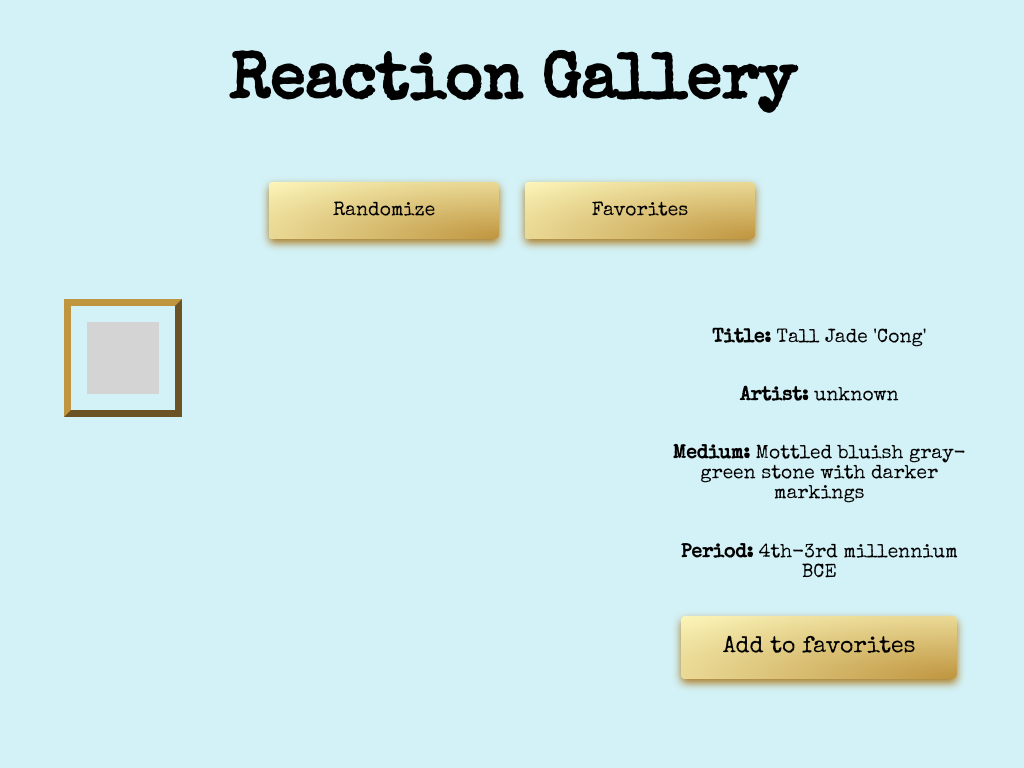
Test: Reaction Gallery error-handling › Should see an error message if visiting favorite page before adding favorites
This screenshot has width=1024, height=768.
What coordinates should you click on to do the following:
click the button with class "fav-btn"
I would click on:
 (640, 211)
Its box is [525,182,755,240].
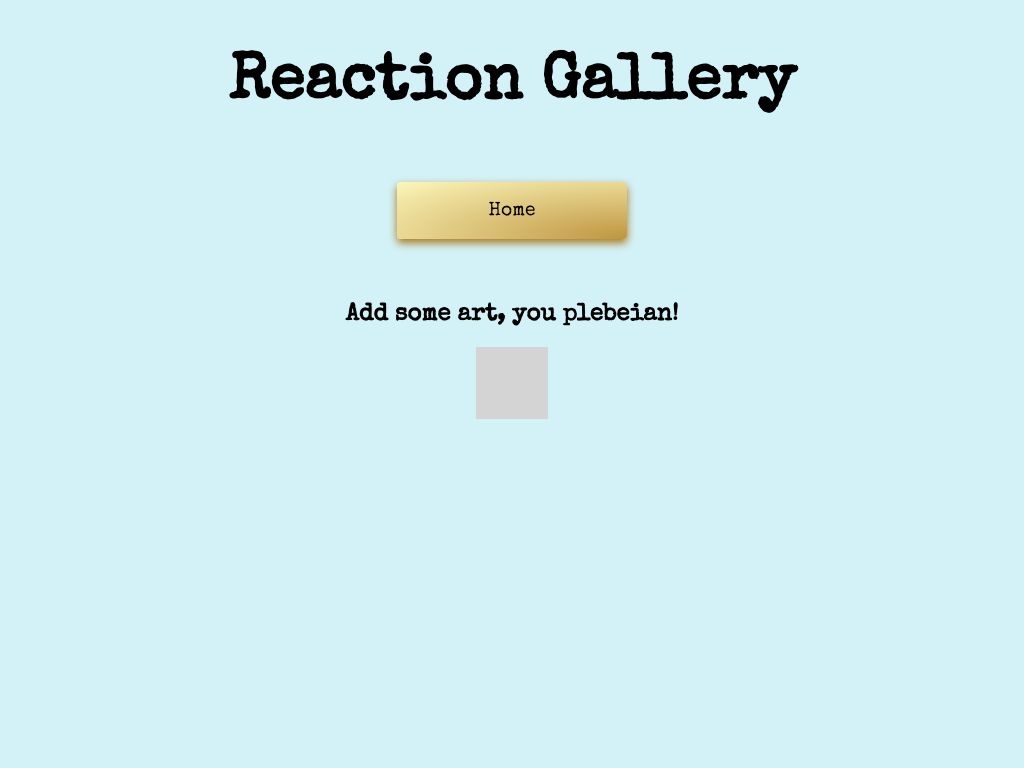
Expected: the heading with class "favorites-error" reads "Add some art, you plebeian!", [346,303,679,327]
